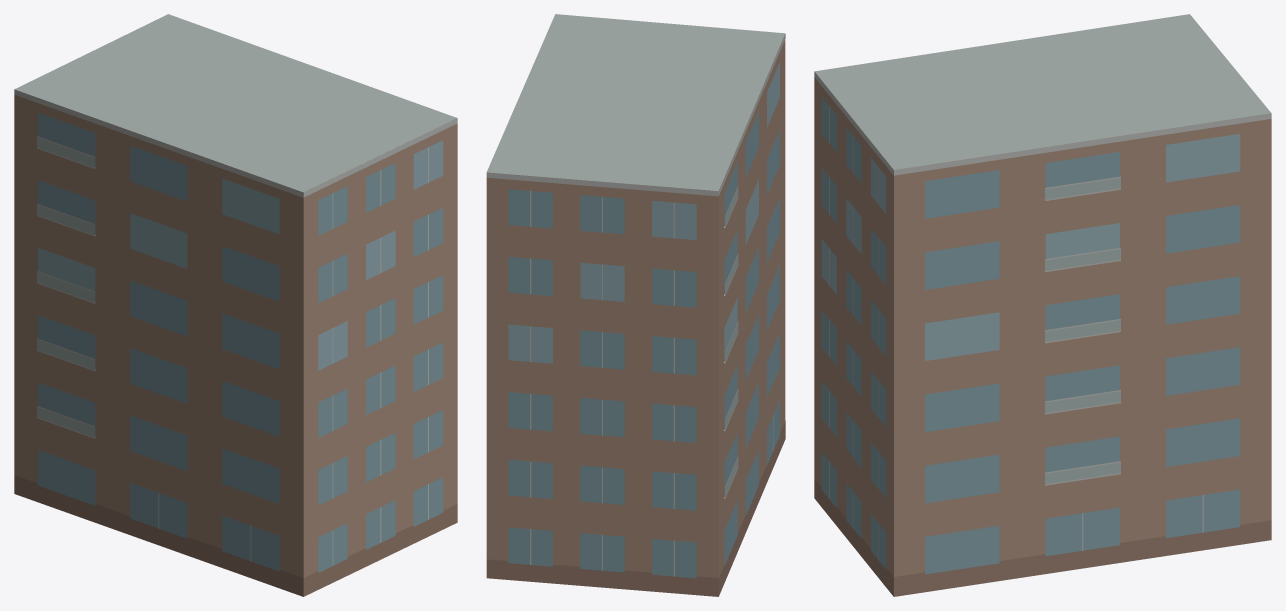
Rendered from survey-upis-32927790.glb.
The picture shows the model from 3 angles, left to right: view 1: azimuth 30°, elevation 25°; view 2: azimuth 150°, elevation 25°; view 3: azimuth 270°, elevation 25°; orthographic projection. The views are drawn at different scales.
Parts seen in each view (by area): view 1: survey-upis-32927790.tmp; view 2: survey-upis-32927790.tmp; view 3: survey-upis-32927790.tmp.
Part boxes in pixels (<box>): survey-upis-32927790.tmp: <box>14,14,457,596</box>; survey-upis-32927790.tmp: <box>486,14,785,596</box>; survey-upis-32927790.tmp: <box>814,14,1271,596</box>.
Bounding box in the file's own units: 14.67 × 18.7 × 18.16.
